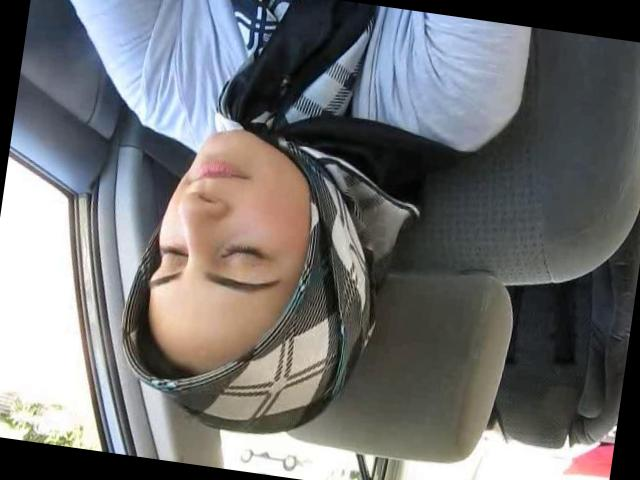eye_closed: (216, 236, 275, 272), (158, 241, 190, 266)
face: (143, 118, 311, 320)
